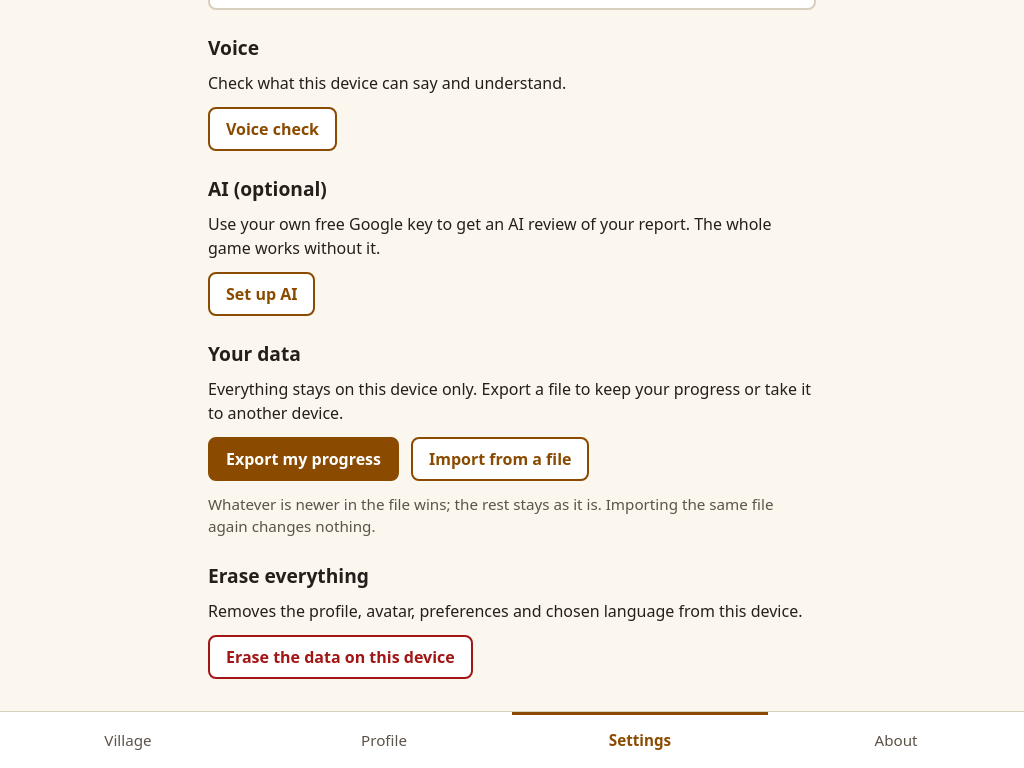
Test case: apagar os dados deste aparelho › pede confirmação própria e cancelar não apaga nada
(page scrolled)
Click the button "Erase the data on this device" at coordinates (340, 657), box [208,635,473,679]
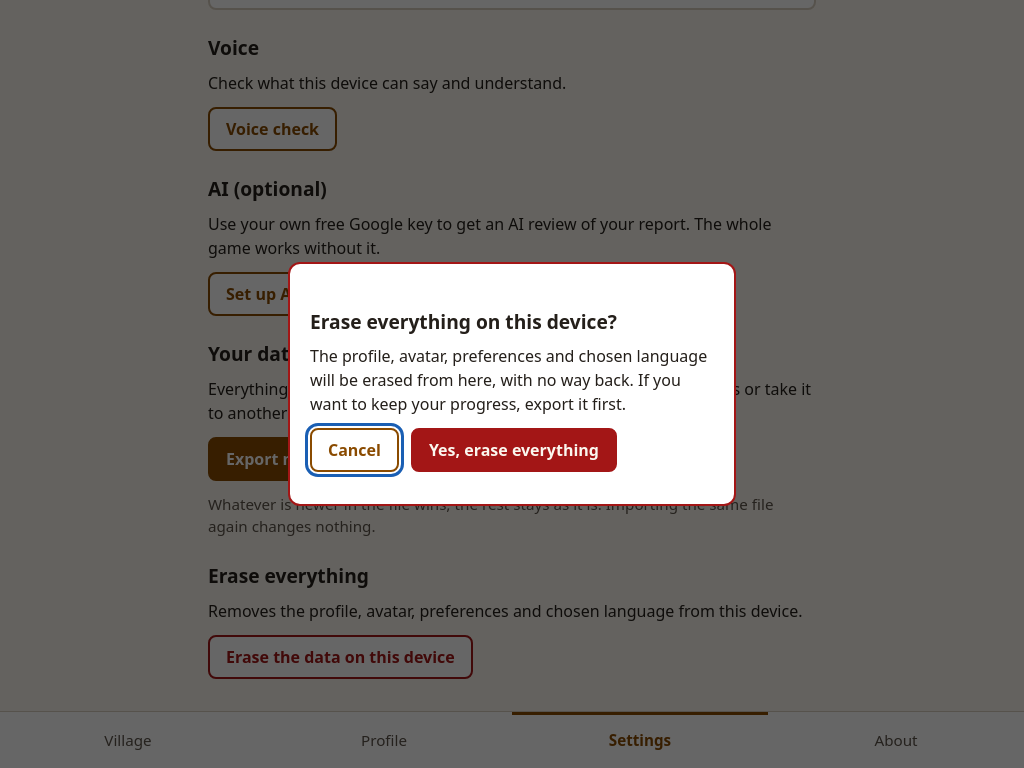
Check: the heading "Erase everything on this device?" is shown, box [310,308,617,335]
Click the button "Cancel" at coordinates (354, 450), box [310,428,399,472]
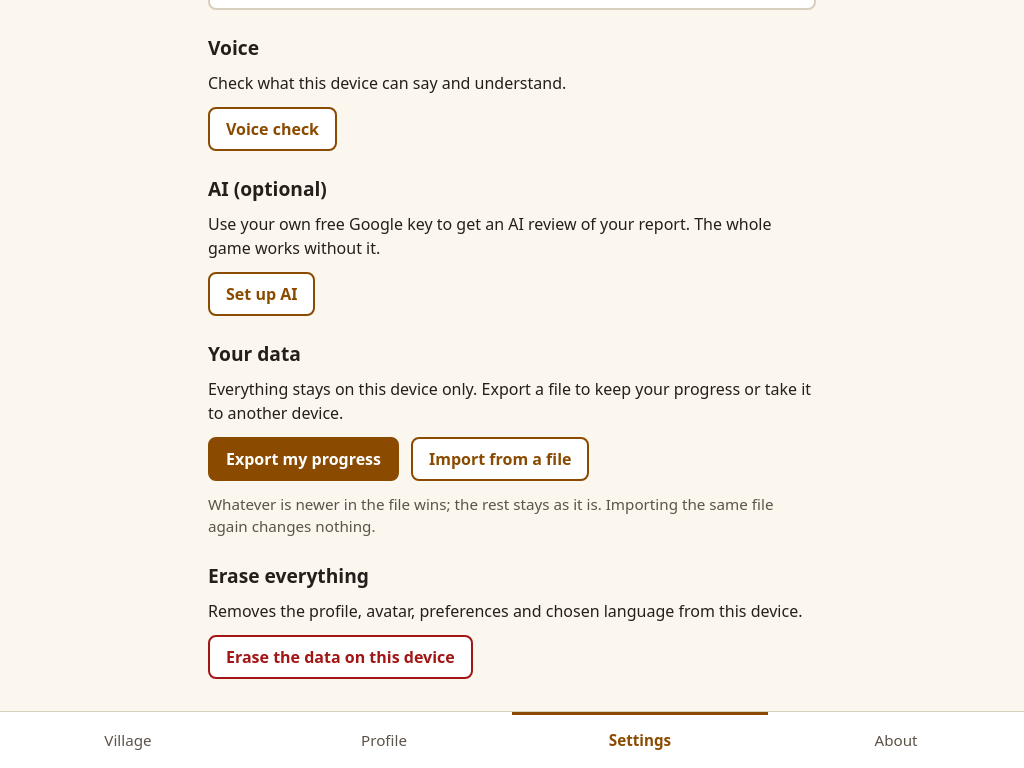
Check: the heading "Erase everything on this device?" is gone
